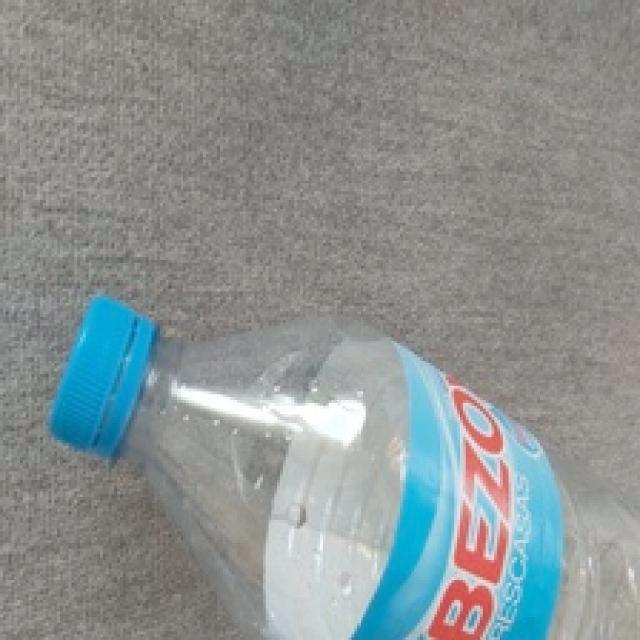bottle: (48, 288, 640, 640)
